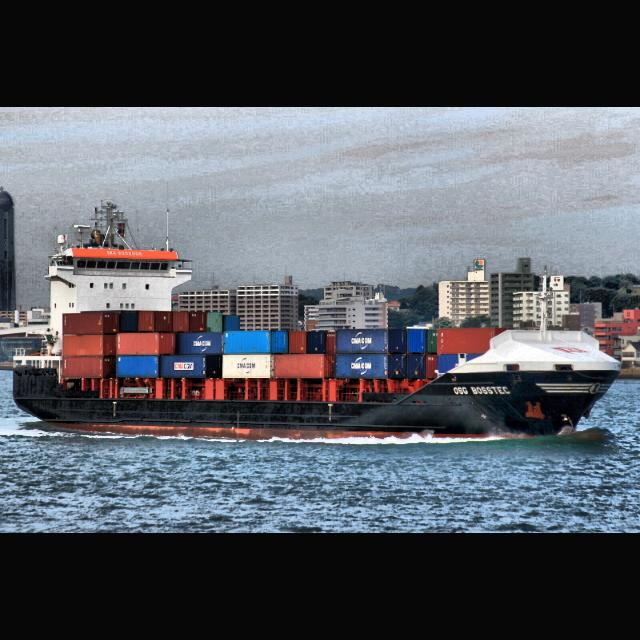container: (10, 201, 622, 444)
